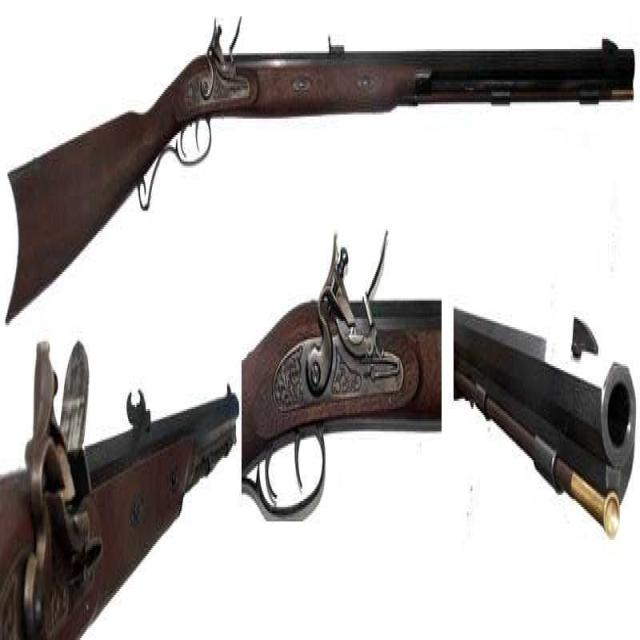heavyweapon: (4, 25, 639, 359), (1, 230, 244, 640), (233, 273, 447, 541), (453, 265, 638, 553)
